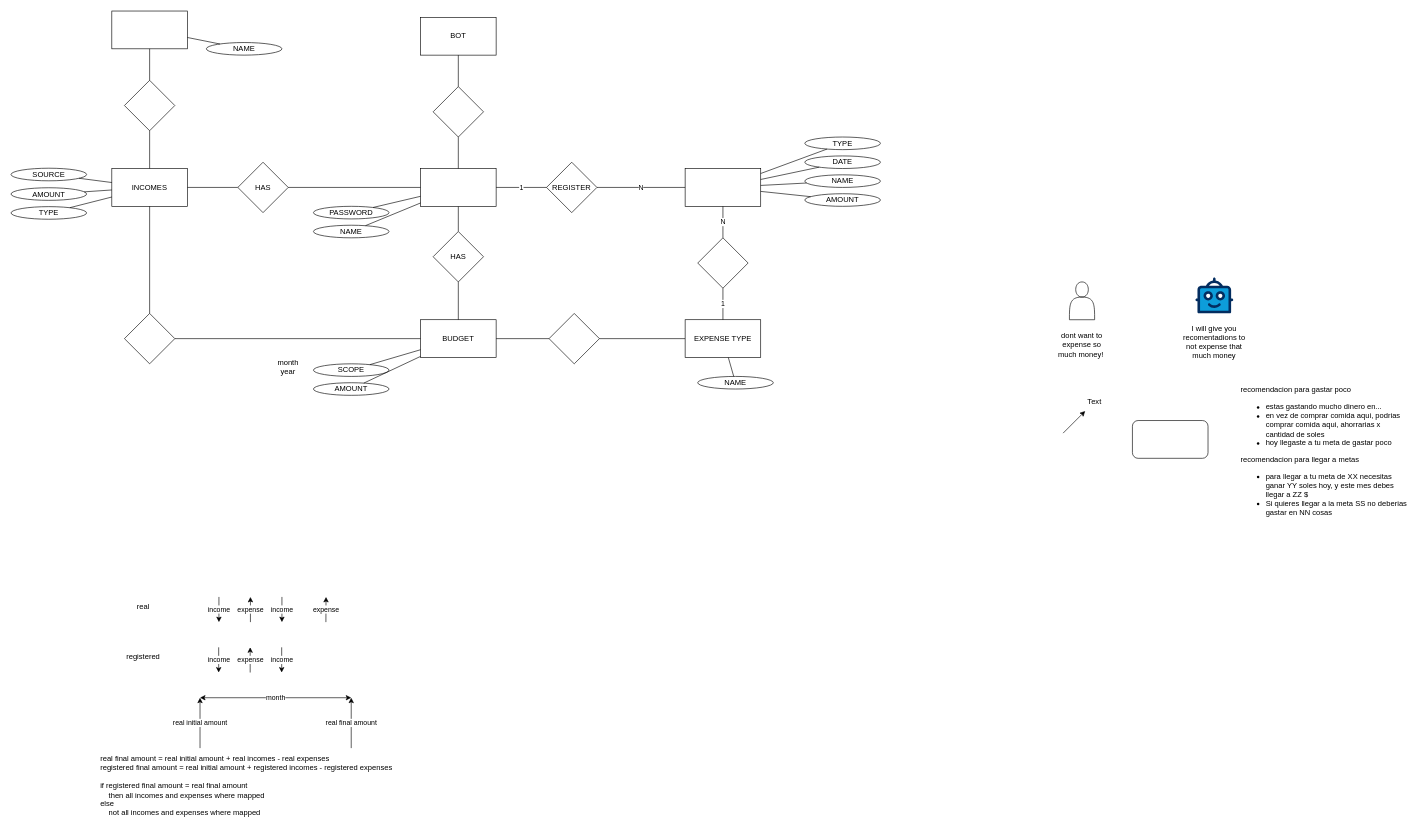
The diagram is 1421 pixels wide and 835 high, and some of its shapes have lost their labels. The shapes that lost their labels are listed below. From the top down, each one's box as (x1, y1, x2, y2) in pixels, then its label:
(111, 10, 187, 49): TYPES
(124, 80, 175, 131): HAVE
(432, 86, 484, 137): NOTIFIES
(420, 168, 496, 206): CLIENT
(684, 168, 761, 206): EXPENSES
(697, 237, 748, 288): BELONGS TO
(124, 313, 175, 364): LIMITS
(548, 313, 599, 364): LIMITED BY
(1132, 420, 1208, 458): ML model
